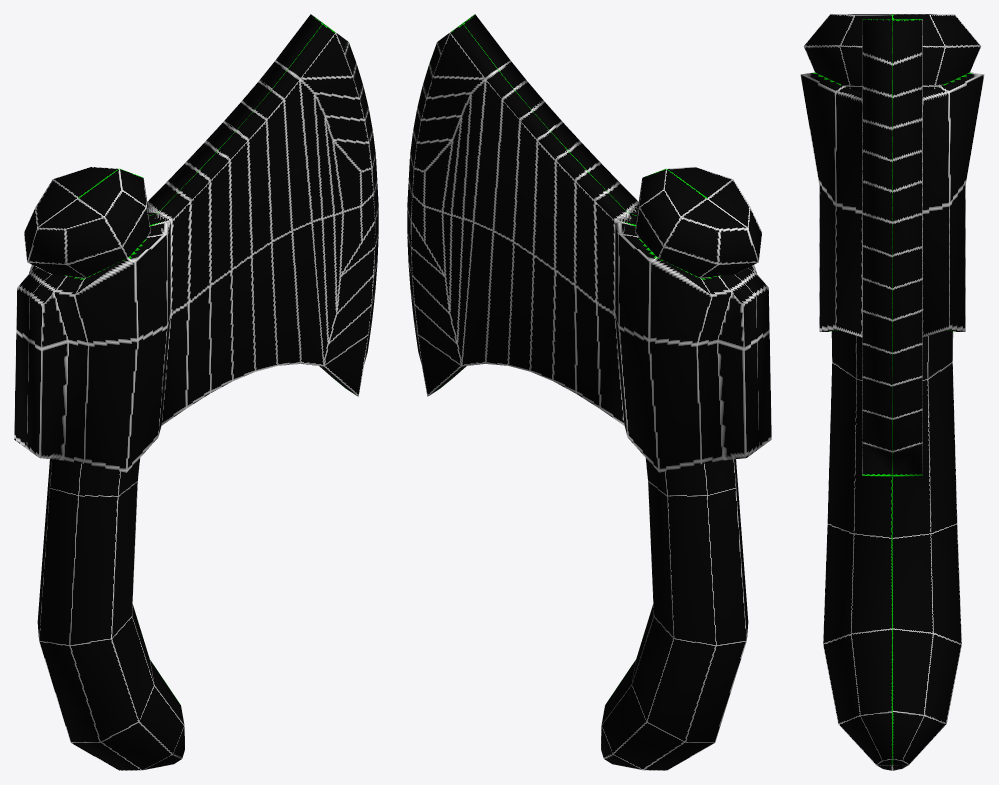
The model's file is Axe.FBX.
3 views of the same model, side by side, from view 1: azimuth 30°, elevation 25°; view 2: azimuth 150°, elevation 25°; view 3: azimuth 270°, elevation 25° (orthographic). The views are drawn at different scales.
Visible parts, largest first — view 1: Blade, Handle; view 2: Blade, Handle; view 3: Handle, Blade.
Part boxes in pixels (box(x1,y1,x2,y2)): Blade: box(14, 14, 378, 472); Handle: box(24, 166, 184, 770); Blade: box(407, 14, 771, 472); Handle: box(601, 166, 761, 770); Handle: box(803, 14, 981, 770); Blade: box(800, 19, 984, 476).
Size of the model in its own units: 20.24 by 38.65 by 7.65.
1 material, 1 textured.
